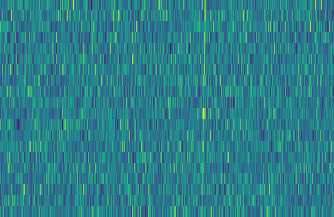signal: (197, 0, 210, 217)
